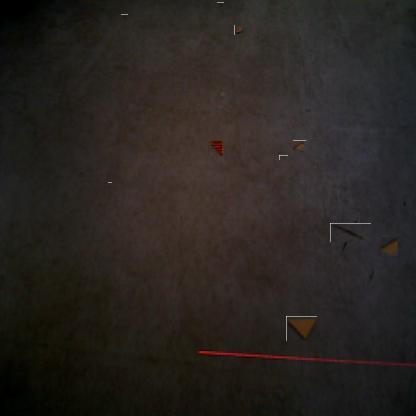dirty: (286, 316, 317, 341), (380, 236, 398, 256), (208, 140, 224, 156), (293, 139, 306, 152), (234, 25, 243, 35)
mark: (336, 218, 366, 247), (364, 267, 374, 285), (400, 198, 406, 208), (280, 154, 287, 161), (305, 108, 313, 114), (121, 14, 128, 20), (217, 2, 224, 8), (108, 182, 112, 191)
